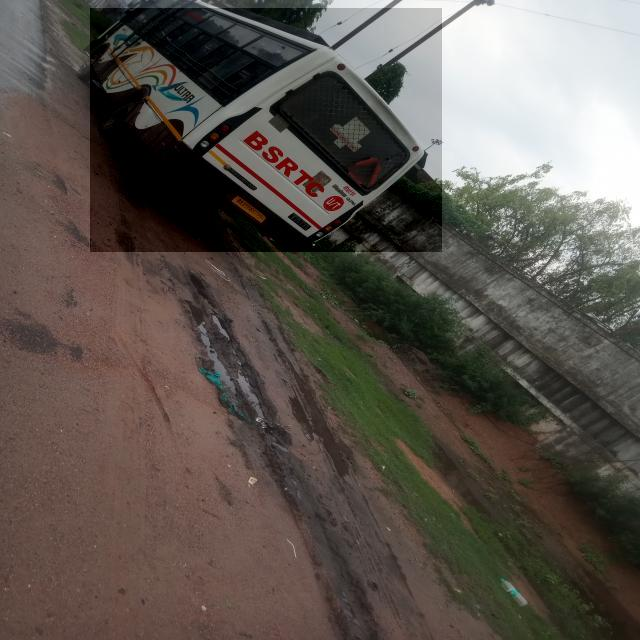Bus: (90, 9, 442, 252)
